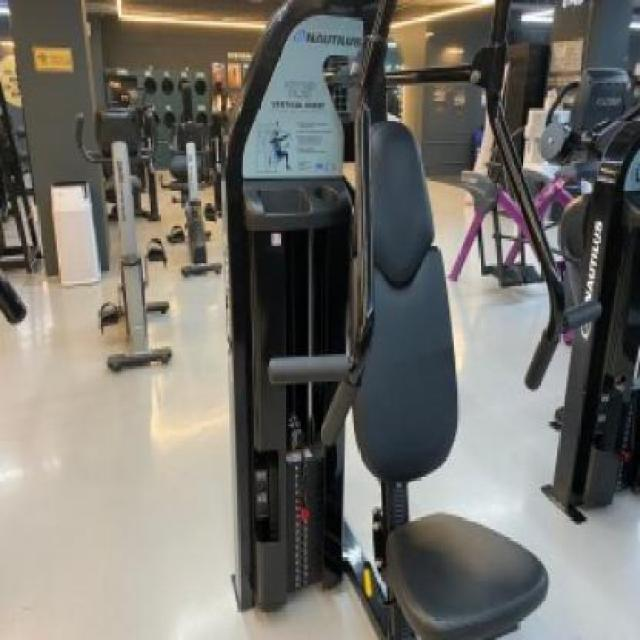Chest Press machine: (204, 1, 601, 640)
